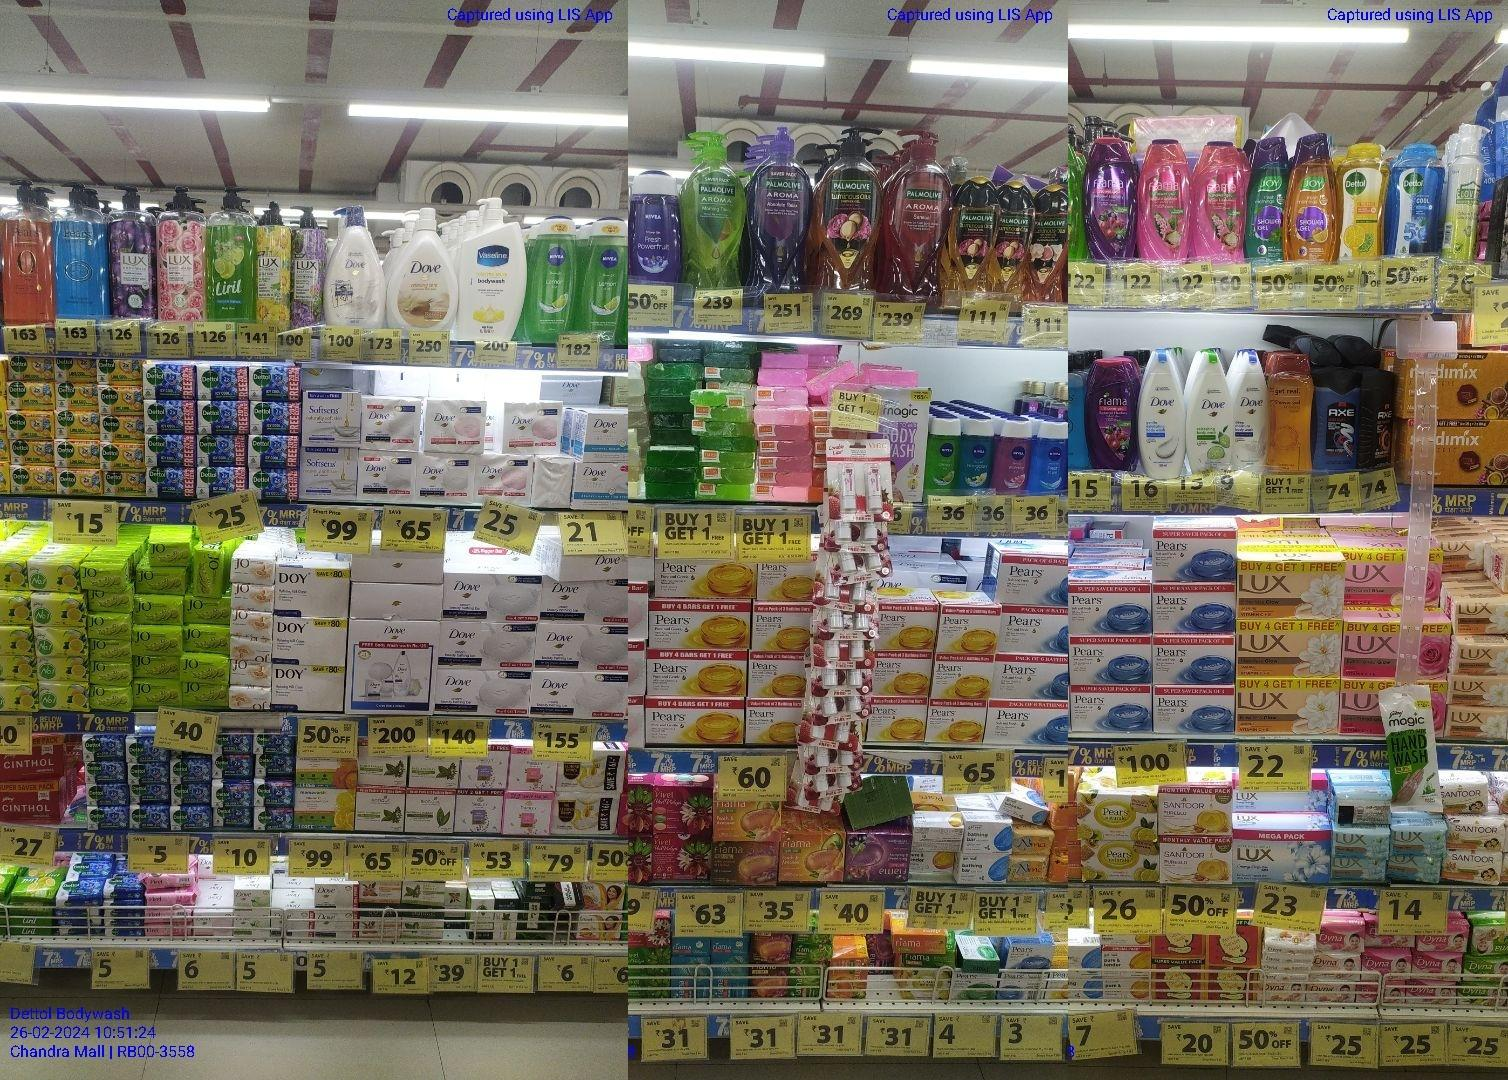Dettol_Bodywash_Cool: (1391, 143, 1443, 254)
Dettol_Bodywash_Refresh: (1335, 141, 1390, 257)
Dove_Deep_Moisture_Body_Wash_250ML: (1237, 349, 1268, 469)
Dove_Gentle_Exfoliating_Body_Wash_250ML: (1139, 349, 1185, 479)
Dove_Refreshing_Body_Wash_250ML: (1188, 344, 1233, 472)
Fiama_Shower_Gel_Patchouli_and_Macadamia_250ML: (1137, 138, 1191, 261), (1192, 138, 1245, 263)
Get_Real_Shower_Gel_Moisturising_Glycerin_300ML: (1270, 349, 1315, 471)
Nivea_Shower_Gel_Lemon_and_Oil_250ML: (527, 215, 580, 346), (581, 216, 628, 347)
Palmolive_Luminous_Oils_Invigorating_Macadamia_Oil_With_Peony_250ML: (942, 176, 997, 299), (994, 179, 1031, 298)
Palmolive_Luminous_Oils_With_White_Orchid_Shower_Gel_250ML: (1031, 181, 1067, 303)
